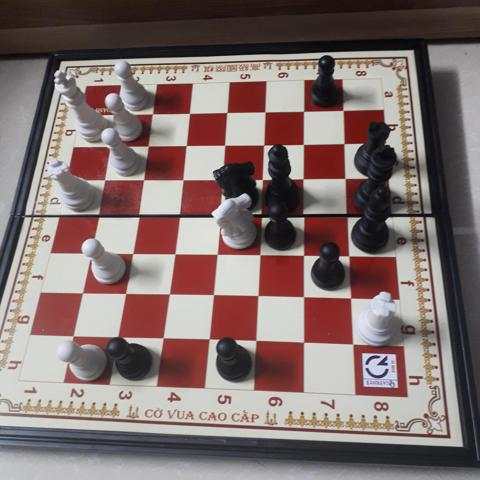xcorner: (220, 104, 237, 120), (218, 135, 234, 152), (103, 136, 120, 152), (340, 206, 357, 222), (90, 204, 106, 221), (297, 245, 313, 262), (252, 245, 269, 261), (166, 243, 182, 260), (205, 286, 222, 302), (74, 283, 91, 299), (345, 335, 361, 352), (296, 334, 313, 350), (337, 102, 353, 118), (297, 103, 313, 119), (259, 103, 275, 119), (183, 104, 199, 120), (146, 105, 162, 121), (110, 105, 126, 121), (338, 135, 354, 151), (297, 135, 313, 151), (257, 135, 273, 151), (179, 136, 195, 152), (141, 136, 157, 152), (339, 169, 355, 185), (297, 169, 313, 185), (256, 169, 272, 185), (215, 169, 231, 185), (175, 169, 191, 185), (136, 169, 152, 185), (97, 169, 113, 185), (297, 206, 313, 222), (254, 206, 270, 222), (212, 205, 228, 221), (171, 205, 187, 221), (130, 205, 146, 221), (342, 246, 358, 262), (209, 244, 225, 260), (124, 243, 140, 259), (83, 242, 99, 258), (344, 289, 360, 305), (297, 288, 313, 304), (251, 287, 267, 303), (161, 285, 177, 301), (117, 284, 133, 300), (249, 332, 265, 348), (202, 331, 218, 347), (156, 329, 172, 345), (110, 328, 126, 344), (66, 326, 82, 342)
